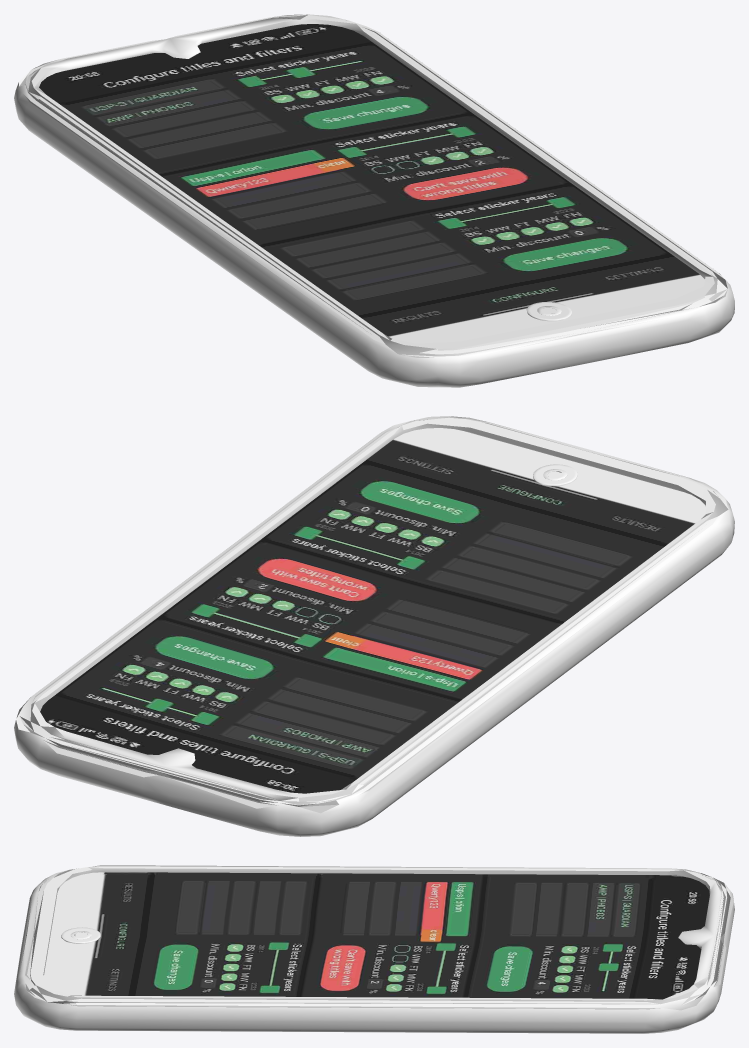
The model's file is Phone.obj.
The picture shows the model from 3 angles, top to bottom: view 1: azimuth 30°, elevation 25°; view 2: azimuth 150°, elevation 25°; view 3: azimuth 270°, elevation 25°; orthographic projection. The views are drawn at different scales.
Parts seen in each view (by area): view 1: objMesh; view 2: objMesh; view 3: objMesh.
Part boxes in pixels (x1=…): objMesh: x1=14, y1=14, x2=734, y2=387; objMesh: x1=14, y1=416, x2=734, y2=836; objMesh: x1=14, y1=865, x2=734, y2=1033.
Bounding box in the file's own units: 1.09 × 0.1273 × 2.32.
4 materials, 4 textured.
